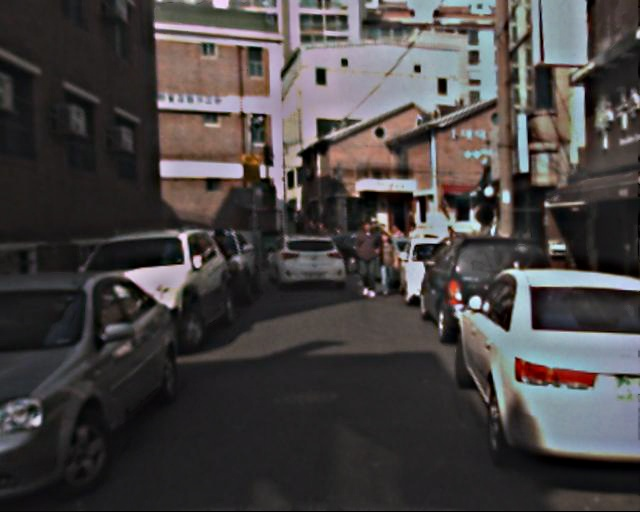person: (352, 223, 384, 300), (372, 230, 399, 297)
